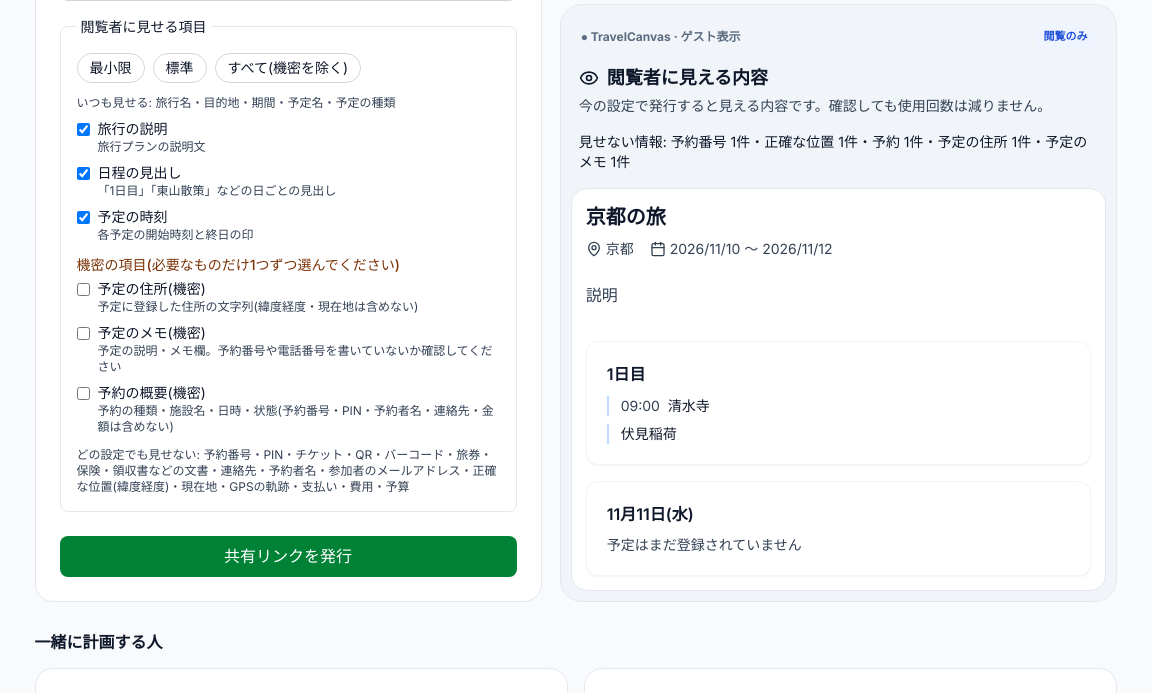
Test: SharePage 閲覧者に見せる項目 (Gate F45) › 機密の項目を外すと確認も外れ、「すべて(機密を除く)」は機密を選ばない
(page scrolled)
Click the checkbox labelled "予定のメモ(機密) 予定の説明・メモ欄。予約番号や電話番号を書いていないか確認してください" at [83, 333], box top-left (76, 327), bottom-right (90, 340)
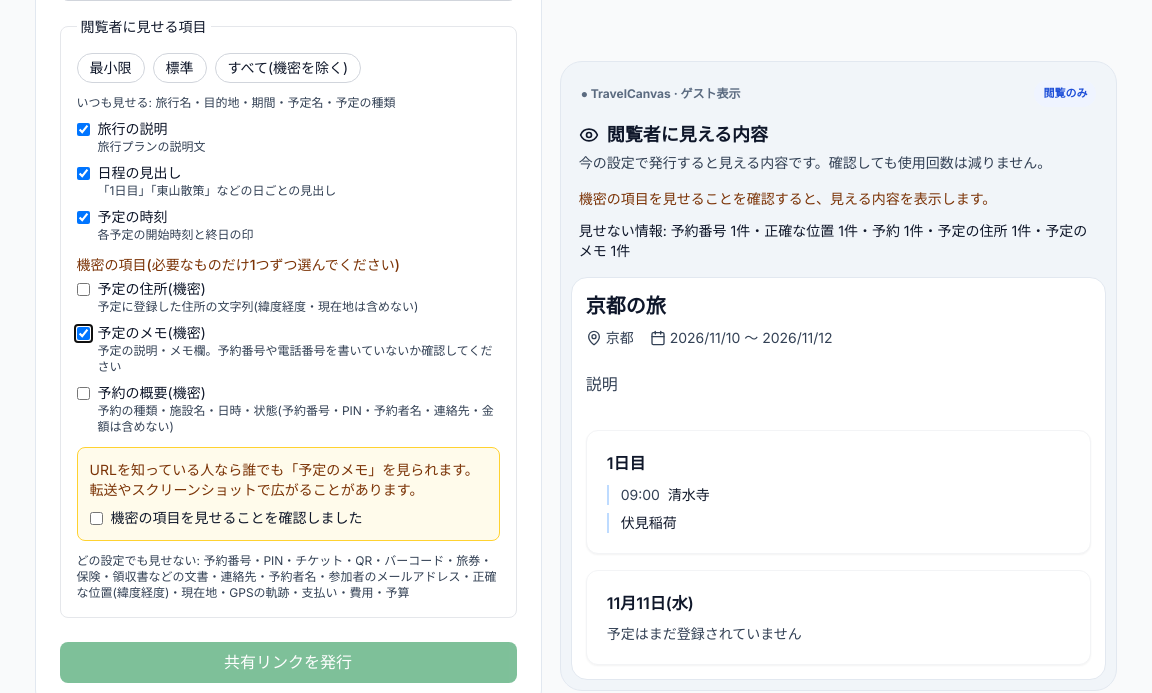
Click the checkbox labelled "機密の項目を見せることを確認しました" at [96, 518], box top-left (90, 512), bottom-right (102, 525)
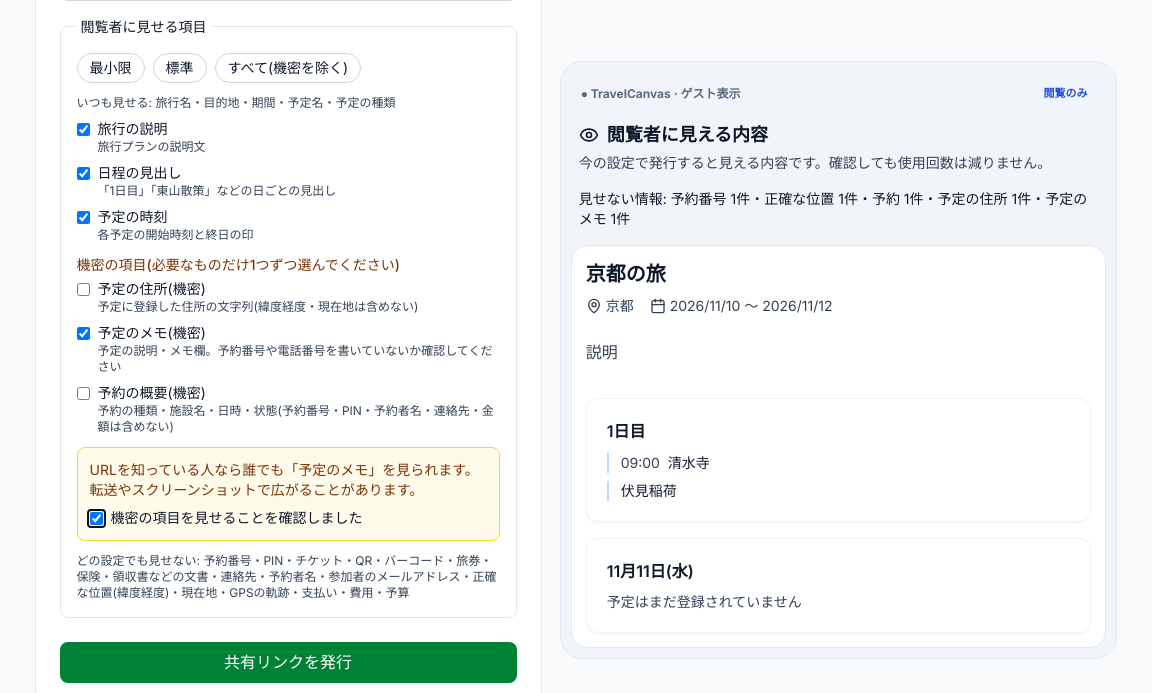
Click the button "すべて(機密を除く)" at [288, 68], box top-left (214, 53), bottom-right (361, 83)
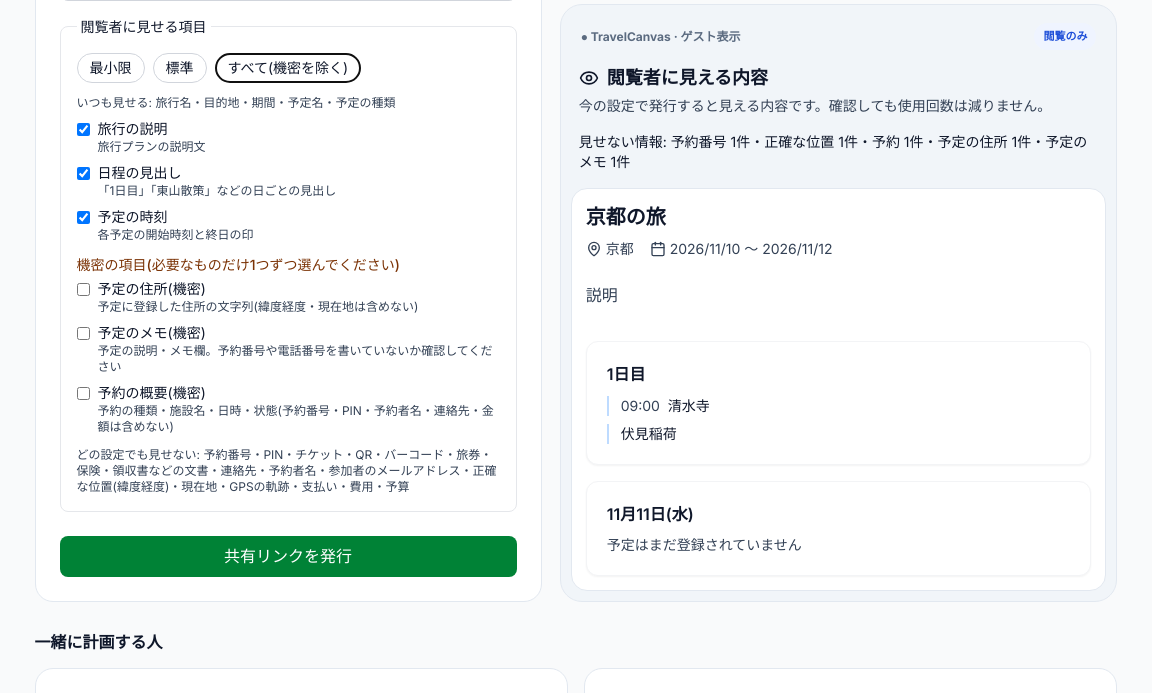
Expected: the checkbox labelled "予定のメモ(機密) 予定の説明・メモ欄。予約番号や電話番号を書いていないか確認してください" is not checked, top-left (76, 327), bottom-right (90, 340)
Expected: the label "機密の項目を見せることを確認しました" is gone
Click the button "最小限" at [110, 68], box top-left (76, 53), bottom-right (144, 83)
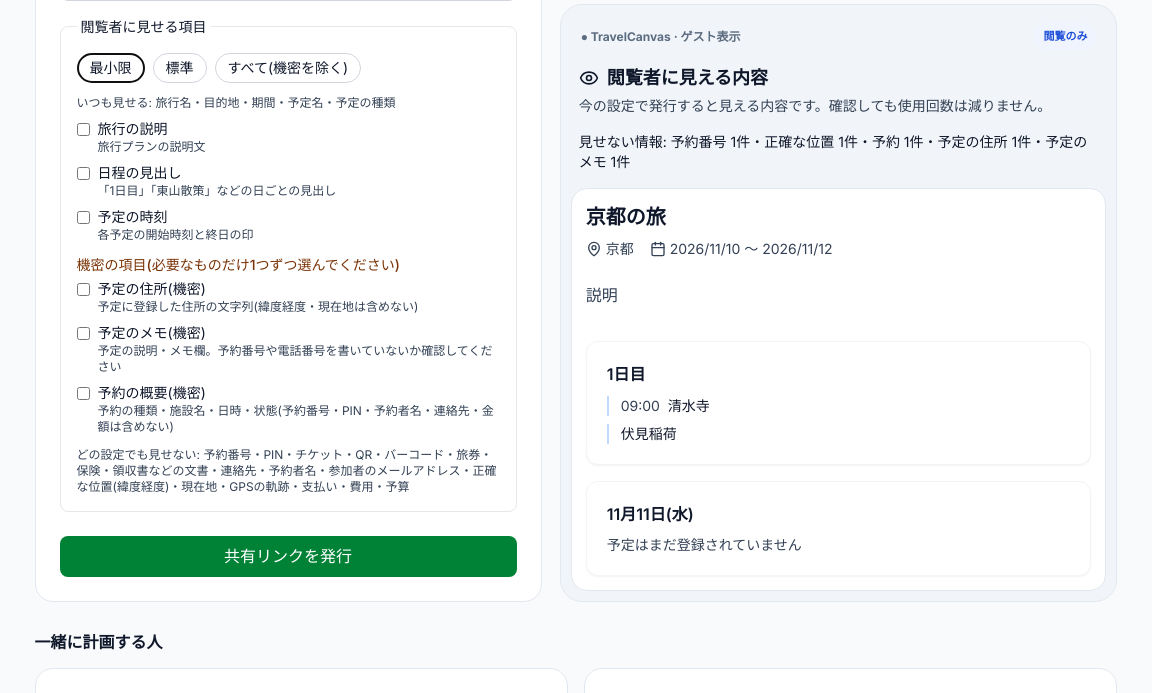
Expected: the checkbox labelled "旅行の説明 旅行プランの説明文" is not checked, top-left (76, 123), bottom-right (90, 136)
Click the checkbox labelled "予定のメモ(機密) 予定の説明・メモ欄。予約番号や電話番号を書いていないか確認してください" at [83, 333], box top-left (76, 327), bottom-right (90, 340)
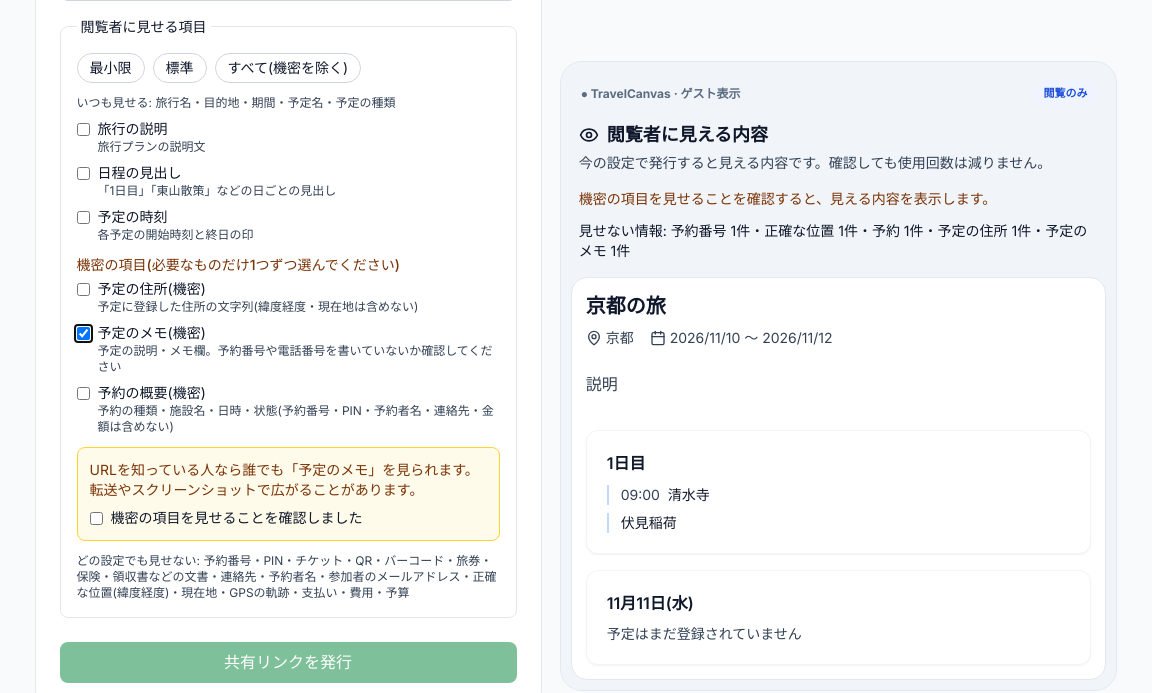
Expected: the checkbox labelled "機密の項目を見せることを確認しました" is not checked, top-left (90, 512), bottom-right (102, 525)
